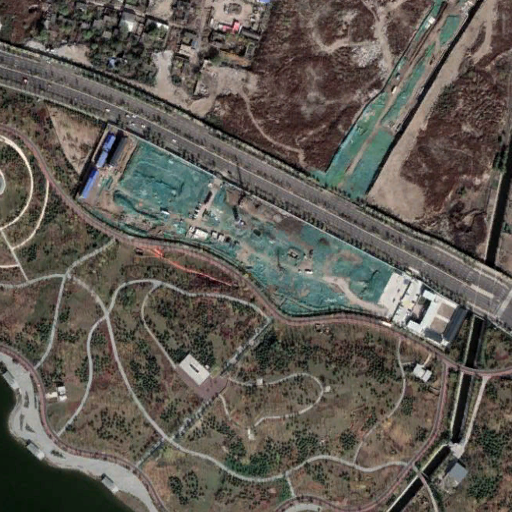cw: (104, 141, 395, 317), (323, 5, 474, 197)
